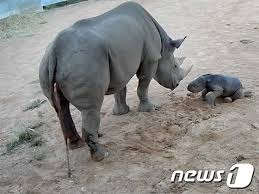Rhinoceros: (35, 0, 196, 163)
